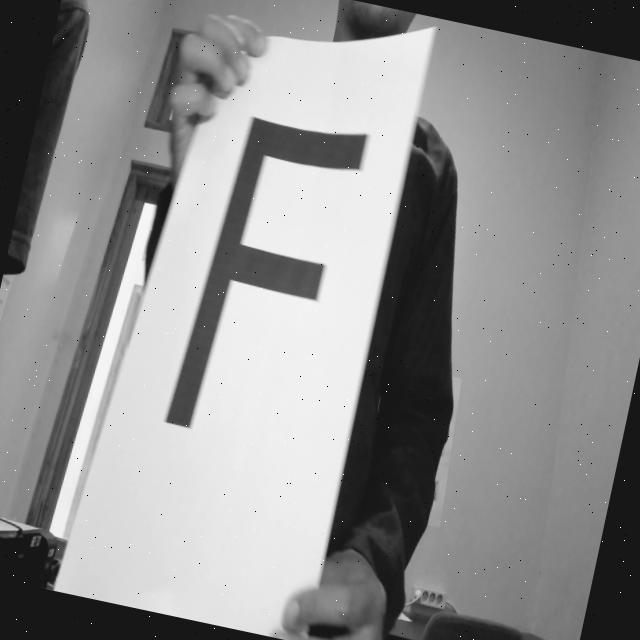f: (146, 90, 384, 496)
